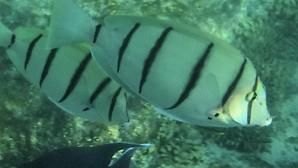Acanthuridae -Surgeonfishes-: (47, 0, 273, 132), (0, 4, 135, 128)
